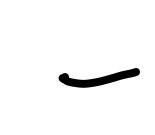minus: (59, 67, 140, 88)
